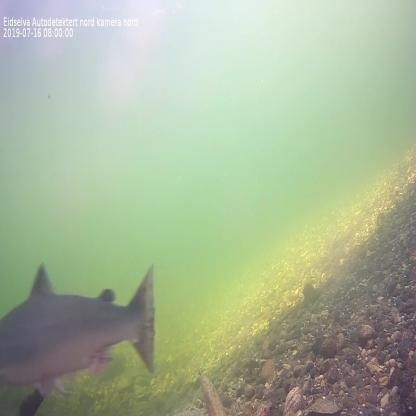salmon: (0, 257, 159, 400)
